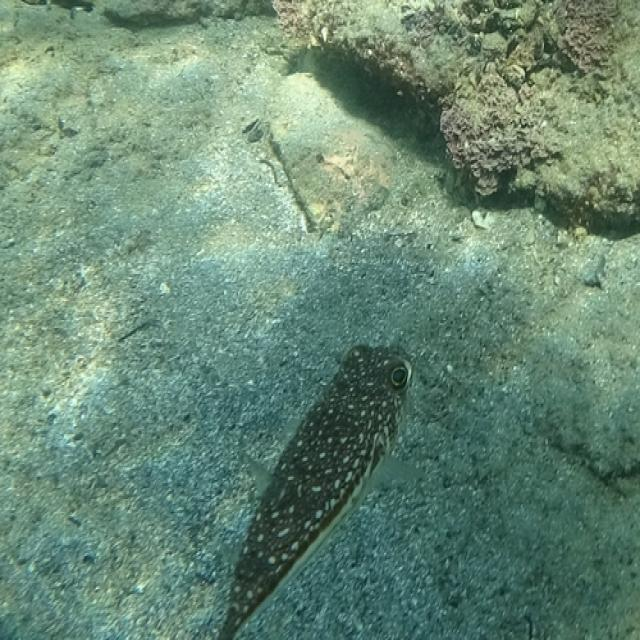Balik: (219, 346, 410, 639)
